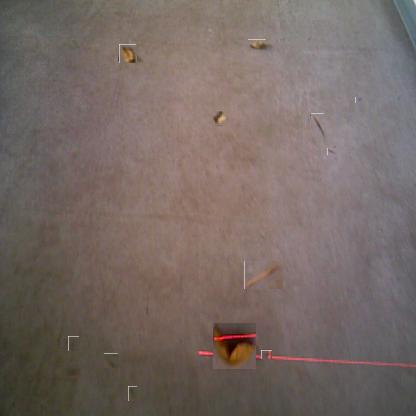dirty: (214, 323, 258, 369), (244, 261, 283, 289), (119, 45, 136, 62), (248, 39, 266, 50), (214, 112, 226, 124)
mark: (310, 113, 324, 138), (104, 353, 119, 368), (66, 366, 79, 380), (67, 337, 80, 350), (128, 386, 137, 401), (262, 350, 272, 359), (328, 147, 338, 156), (144, 304, 150, 318), (398, 93, 404, 101), (356, 97, 362, 104), (307, 37, 313, 42)
